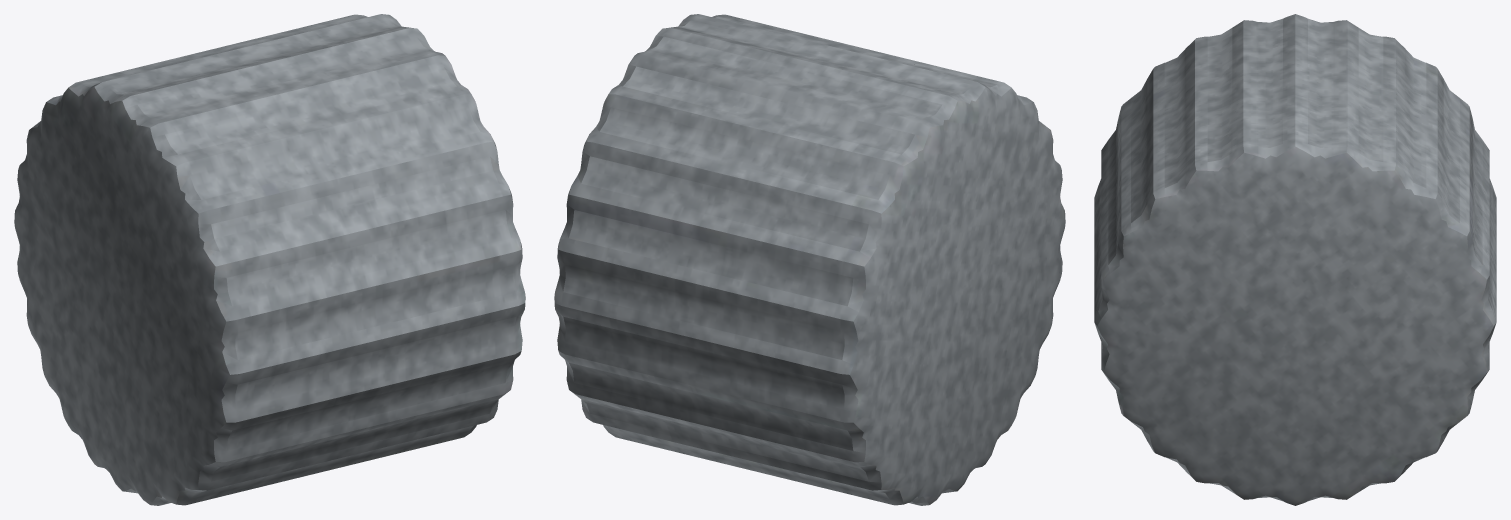
File: dial.glb
The picture shows the model from 3 angles, left to right: view 1: azimuth 30°, elevation 25°; view 2: azimuth 150°, elevation 25°; view 3: azimuth 270°, elevation 25°; orthographic projection. The views are drawn at different scales.
Visible parts, largest first — view 1: dial; view 2: dial; view 3: dial.
Boxes of the visible parts, bbox=[...] form: dial: bbox=[14, 14, 525, 505]; dial: bbox=[554, 14, 1065, 505]; dial: bbox=[1094, 14, 1496, 505].
Size of the model in its own units: 0.12 by 0.1478 by 0.1478.
1 material, 1 textured.
